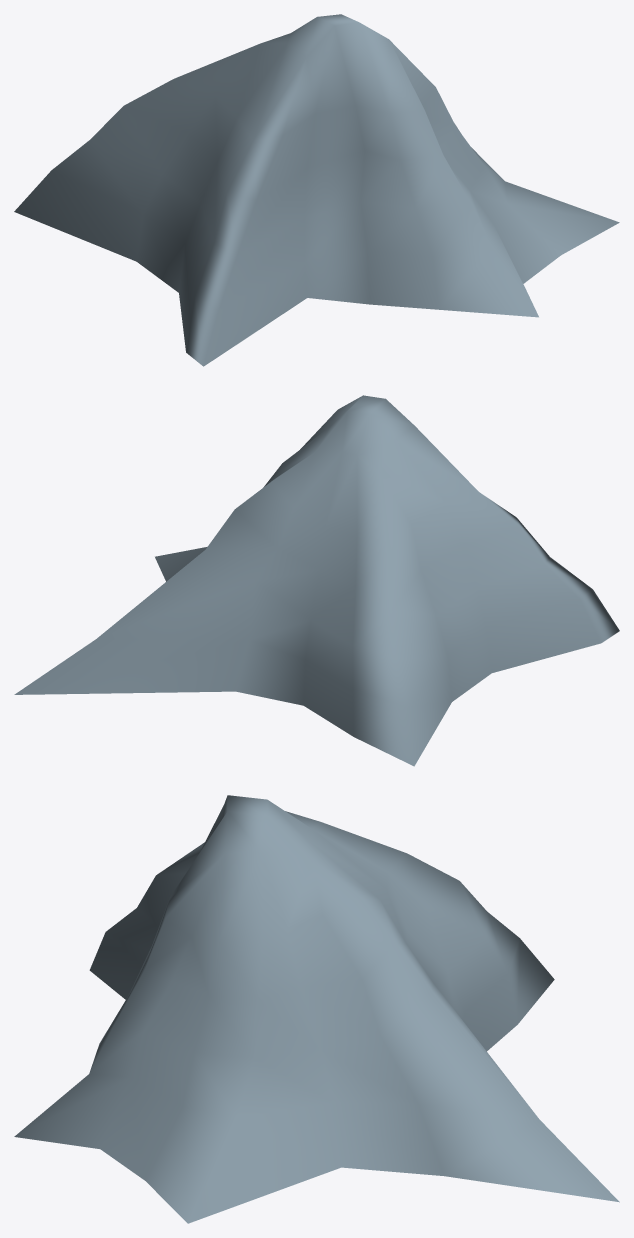
Rendered from crumpledNapkinsNote_HWG.fbx.
3 renders of one model, top to bottom at view 1: azimuth 30°, elevation 25°; view 2: azimuth 150°, elevation 25°; view 3: azimuth 270°, elevation 25°, orthographic. The views are drawn at different scales.
Parts seen in each view (by area): view 1: crumpled; view 2: crumpled; view 3: crumpled.
Part boxes in pixels (x1,y1,x2,y2): crumpled: (14,14,619,366); crumpled: (14,395,619,766); crumpled: (14,795,619,1223).
Bounding box in the file's own units: 2.79 × 1.44 × 2.82.
